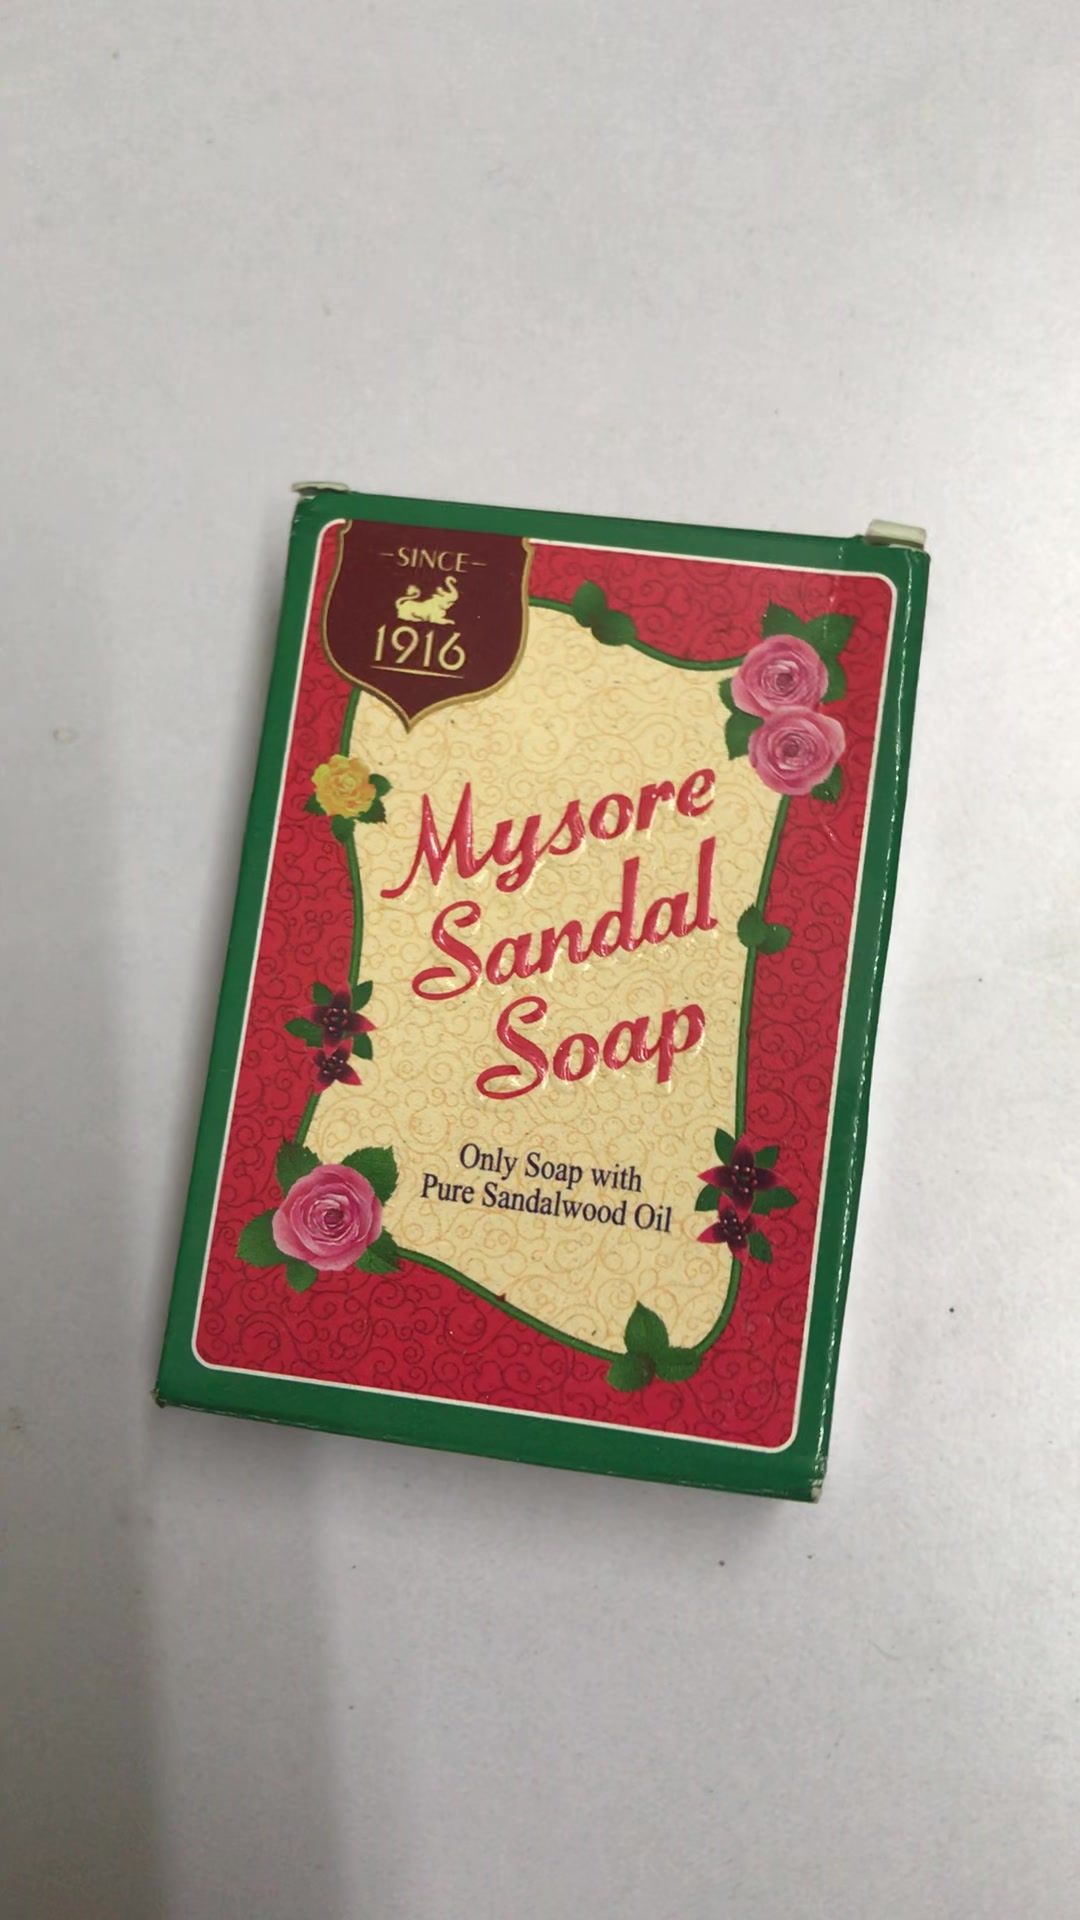mysore sandal soap: (152, 479, 930, 1506)
